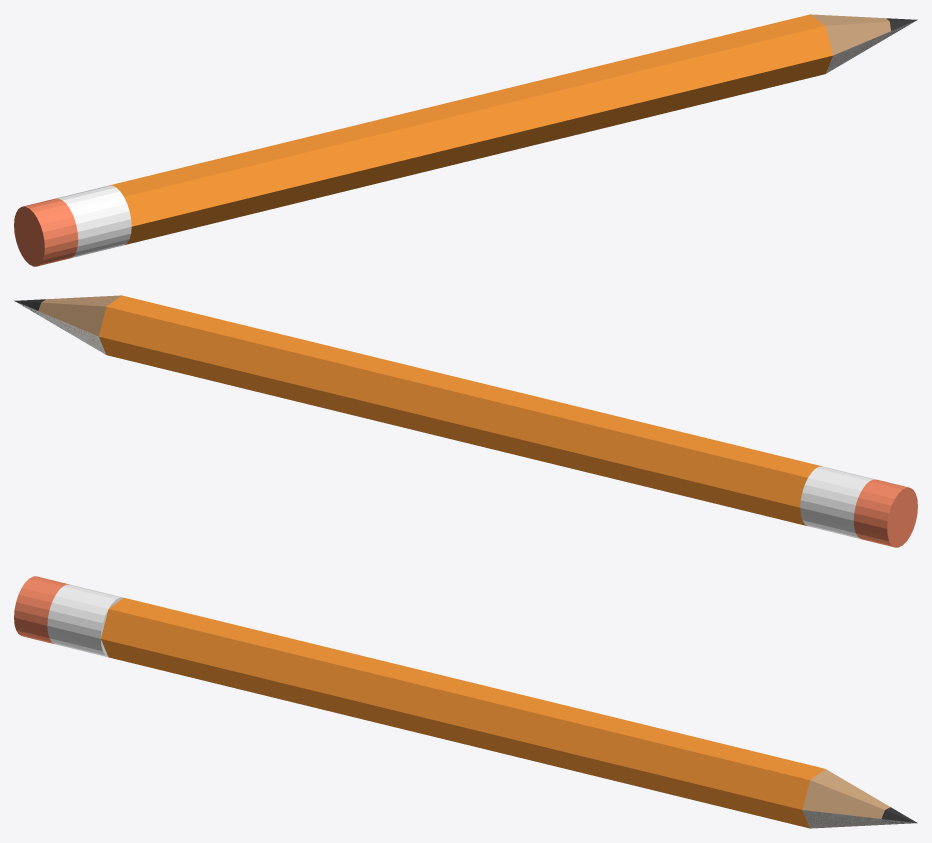
3 renders of one model, top to bottom at view 1: azimuth 30°, elevation 25°; view 2: azimuth 150°, elevation 25°; view 3: azimuth 330°, elevation 25°, orthographic.
Visible parts, largest first — view 1: a pencil; view 2: a pencil; view 3: a pencil.
Boxes of the visible parts, x1,y1,x2,y2 form: a pencil: (14,14,917,266); a pencil: (14,295,917,547); a pencil: (14,576,917,828).
Size of the model in its own units: 8.31 by 0.5 by 0.5.
